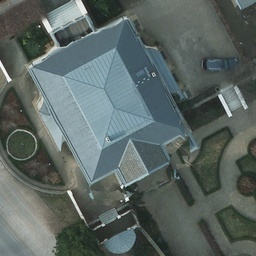car: (200, 55, 240, 75)
